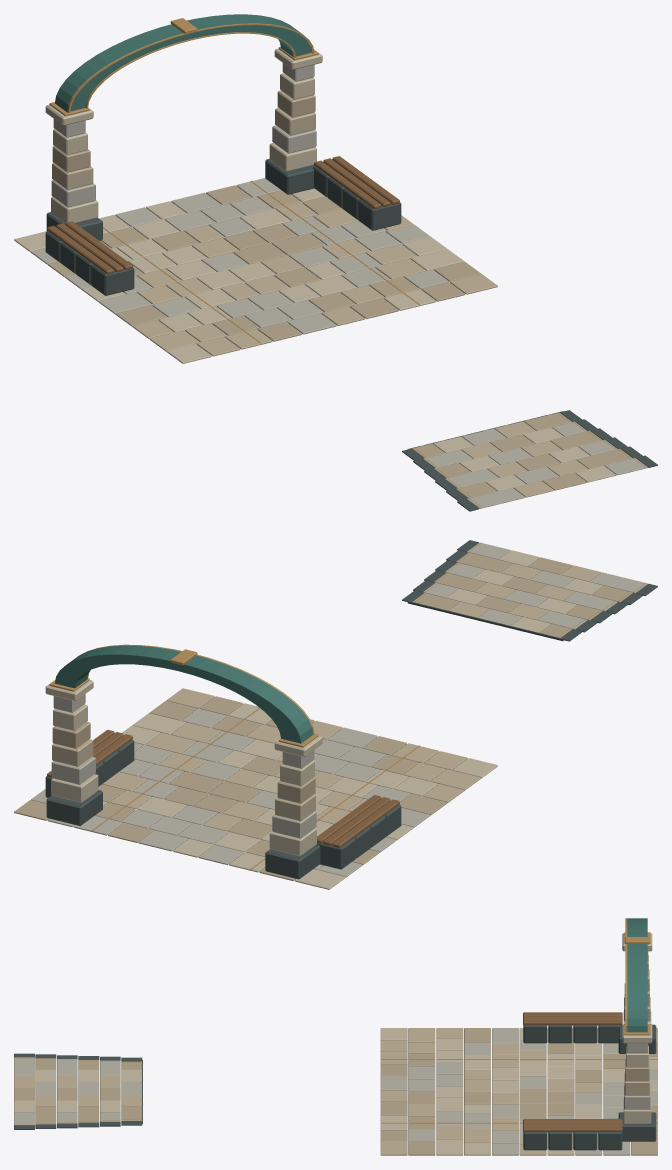
The model's file is mirador.glb.
The picture shows the model from 3 angles, top to bottom: view 1: azimuth 30°, elevation 25°; view 2: azimuth 150°, elevation 25°; view 3: azimuth 270°, elevation 25°; orthographic projection. The views are drawn at different scales.
Parts seen in each view (by area): view 1: mirador; view 2: mirador; view 3: mirador.
Boxes of the visible parts, bbox=[...] form: mirador: bbox=[14, 14, 657, 511]; mirador: bbox=[14, 540, 657, 889]; mirador: bbox=[14, 918, 657, 1155].
Bounding box in the file's own units: 5.48 × 3.11 × 11.81.
